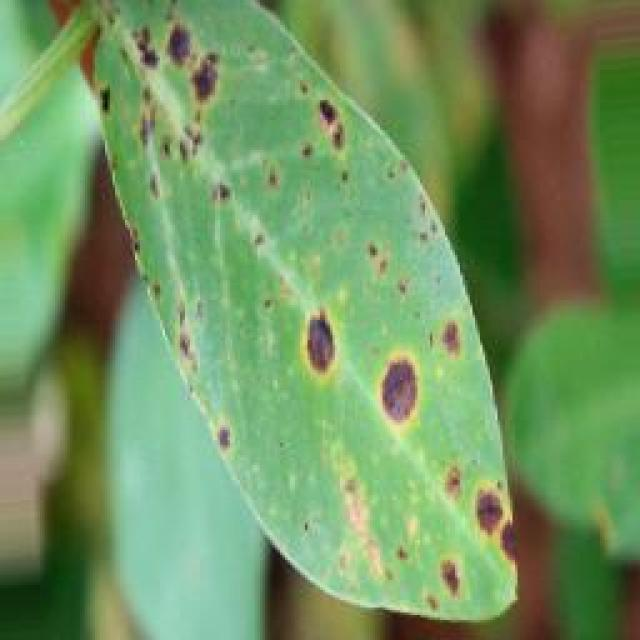Yellowish: (57, 24, 535, 610)
